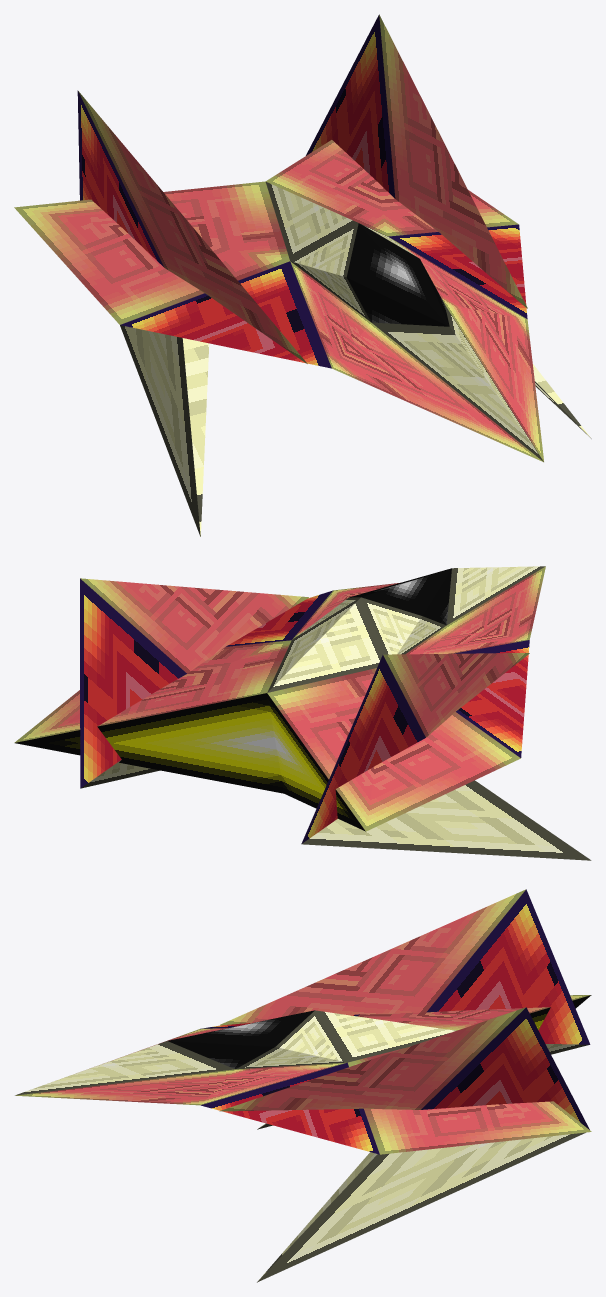
Rendered from red_support.fbx.
3 views of the same model, one above another, from view 1: azimuth 30°, elevation 25°; view 2: azimuth 150°, elevation 25°; view 3: azimuth 270°, elevation 25° (orthographic). The views are drawn at different scales.
Visible parts, largest first — view 1: ShapeIndexedFaceSet.002; view 2: ShapeIndexedFaceSet.002; view 3: ShapeIndexedFaceSet.002.
Part boxes in pixels (x1=…): ShapeIndexedFaceSet.002: x1=14, y1=14, x2=591, y2=536; ShapeIndexedFaceSet.002: x1=14, y1=566, x2=591, y2=860; ShapeIndexedFaceSet.002: x1=15, y1=889, x2=591, y2=1282.
Bounding box in the file's own units: 9213 × 7021 × 14176.
Materials: 5 (5 with a texture image).
